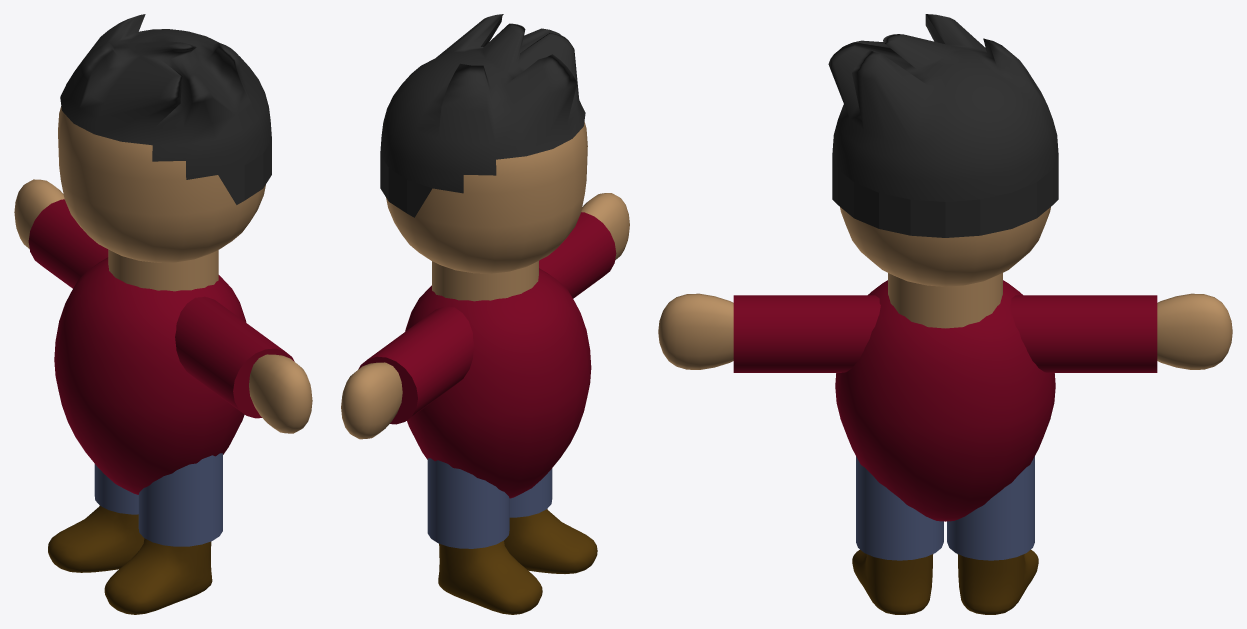
The model's file is character_gen_A.fbx.
The picture shows the model from 3 angles, left to right: view 1: azimuth 30°, elevation 25°; view 2: azimuth 150°, elevation 25°; view 3: azimuth 270°, elevation 25°; orthographic projection. The views are drawn at different scales.
Visible parts, largest first — view 1: pSphere15; view 2: pSphere15; view 3: pSphere15.
Boxes of the visible parts, x1,y1,x2,y2 form: pSphere15: (14,14,312,614); pSphere15: (341,14,629,614); pSphere15: (658,14,1232,614).
Bounding box in the file's own units: 1.31 × 3.63 × 3.33.
